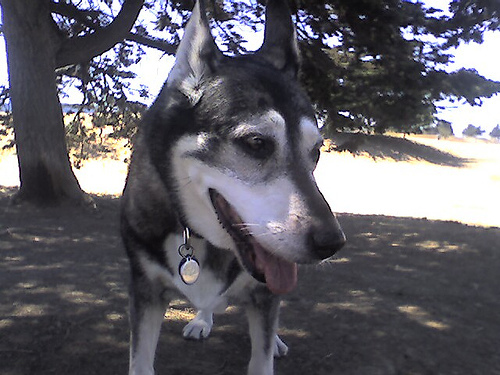dog: (119, 0, 343, 373)
